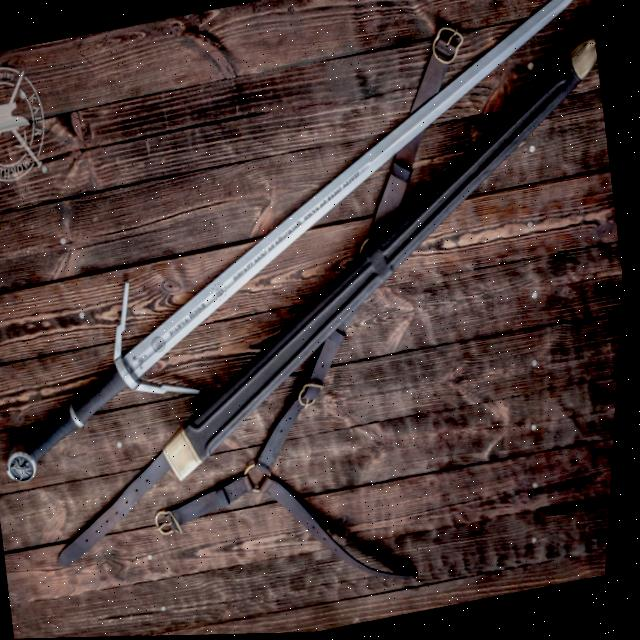knife: (0, 0, 640, 571)
